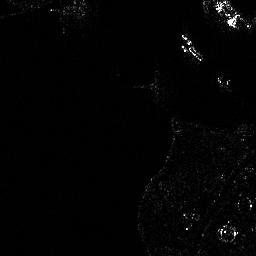ship: (211, 1, 244, 28), (180, 32, 203, 62)
